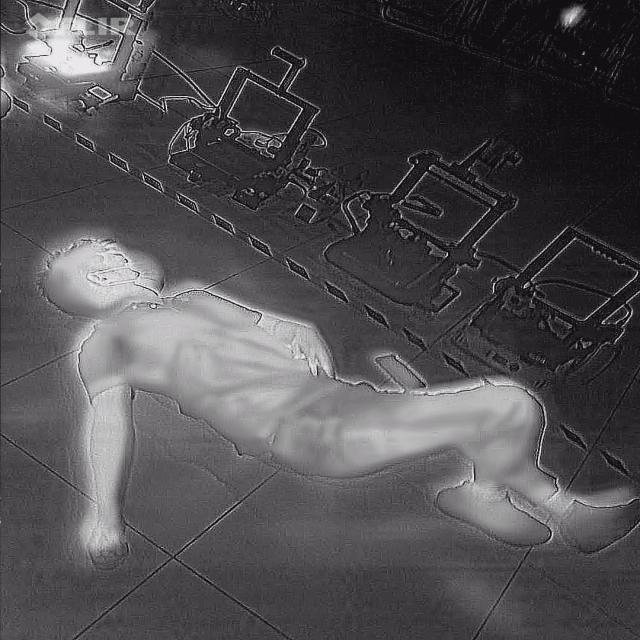Victim: (28, 223, 640, 584)
